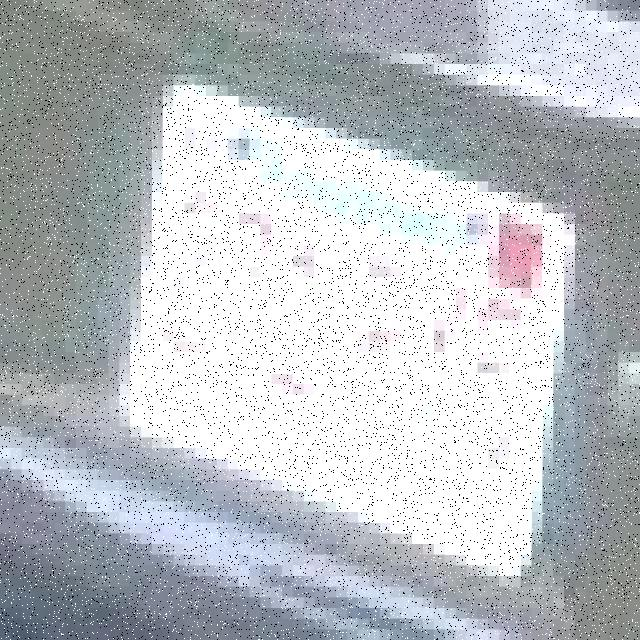licenseplate: (122, 54, 578, 577)
